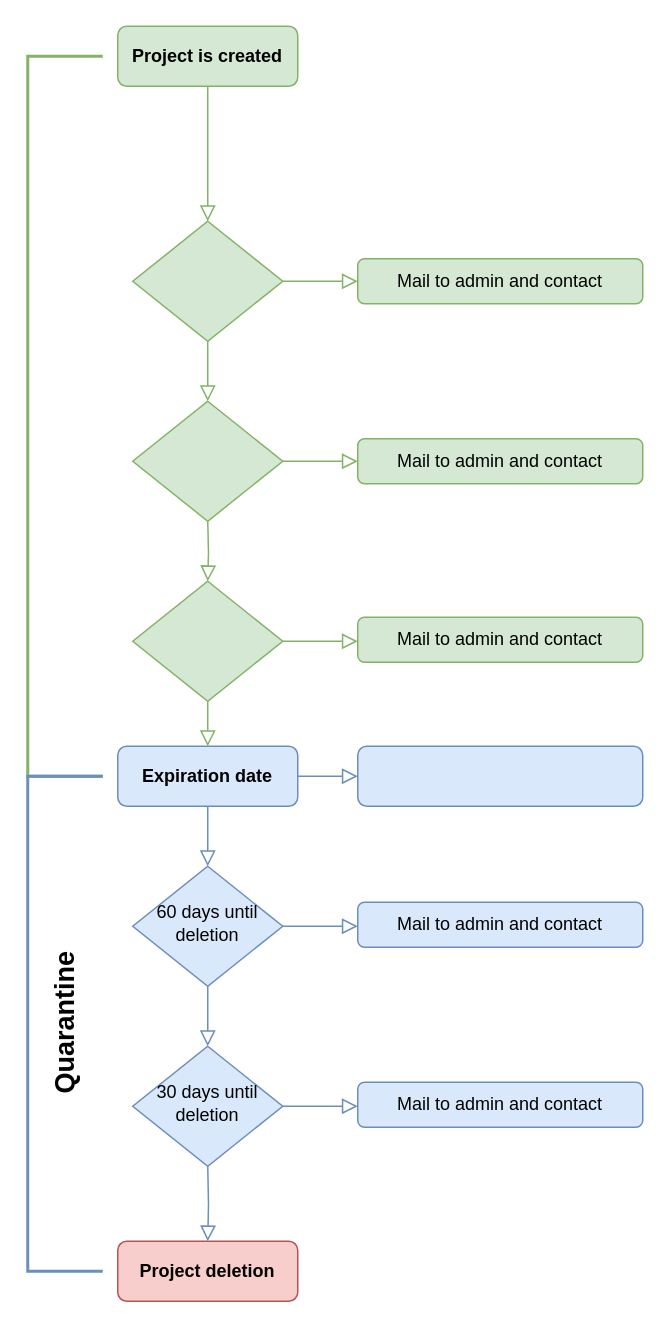
The diagram is 669 pixels wide and 1328 high, and some of its shapes have lost their labels. Each missing label, with the centre of its shape:
30 days until expiration: (207,460)
60 days until expiration: (207,280)
7 days until expiration: (207,640)
Normal operation: (65,415)
Project enters quarantine Mail to admin and contact: (499,775)
